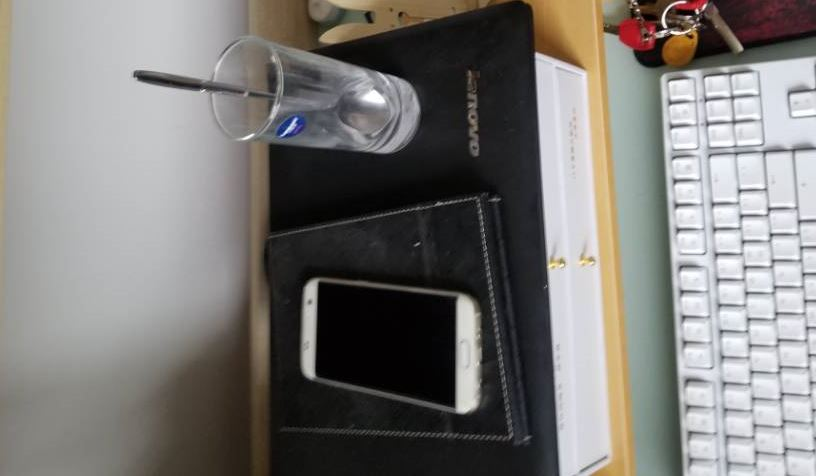mobil: (266, 274, 505, 417)
